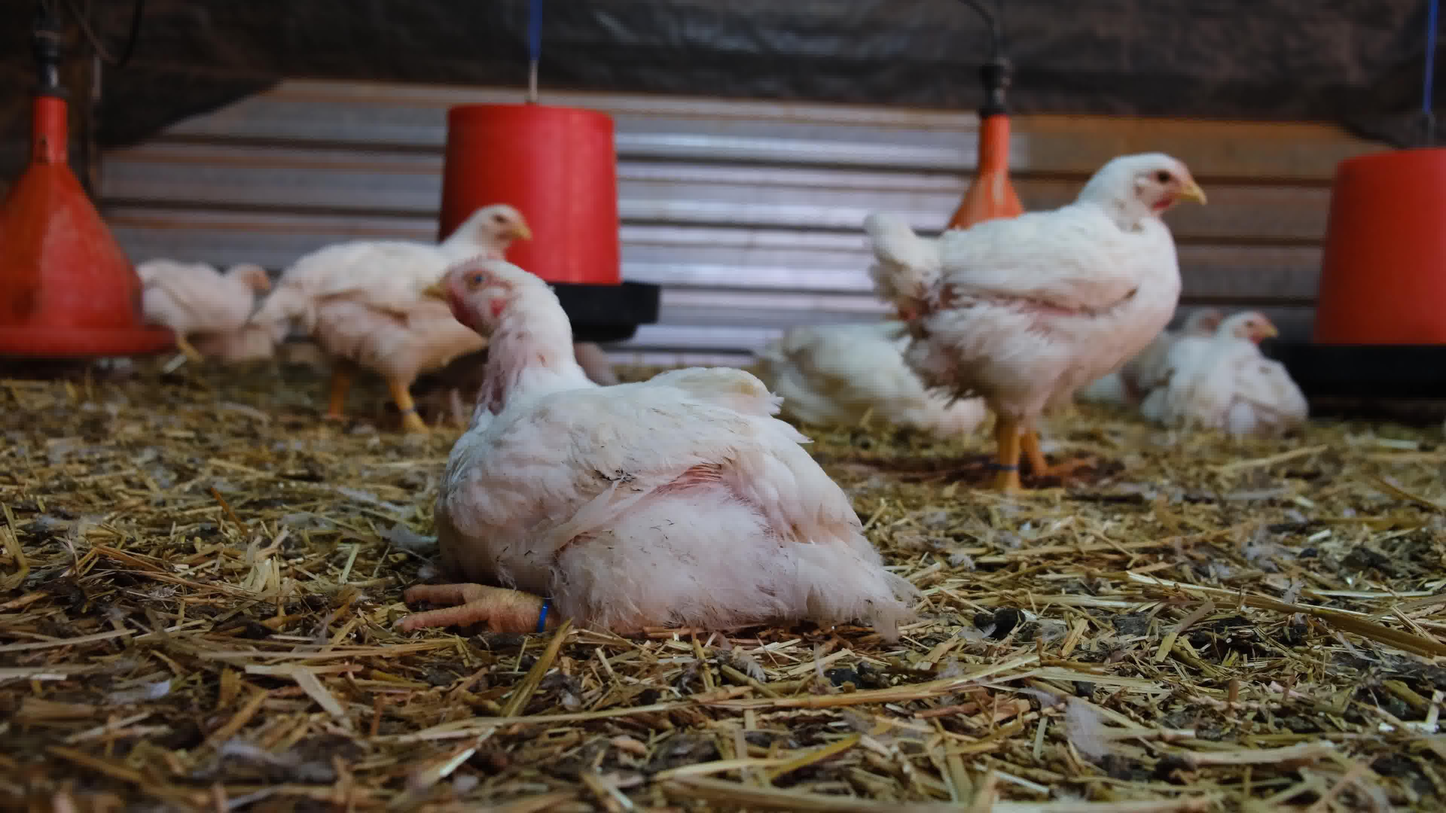AbNormal: (392, 248, 921, 638), (755, 307, 1024, 446), (1201, 316, 1324, 450), (1165, 286, 1241, 418), (205, 311, 294, 371)
Normal: (874, 149, 1209, 510), (275, 205, 529, 427), (126, 237, 265, 327)
